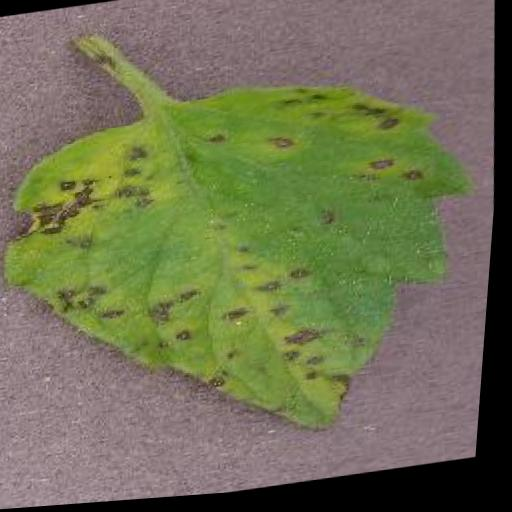Septoria: (0, 60, 500, 485)
